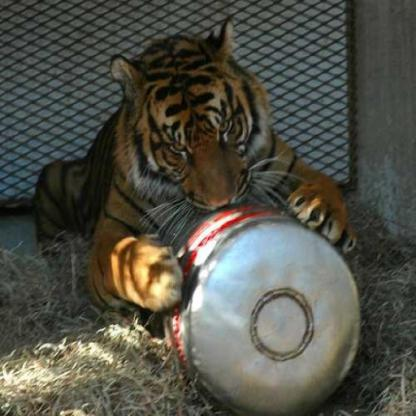Tiger: (29, 12, 378, 307)
